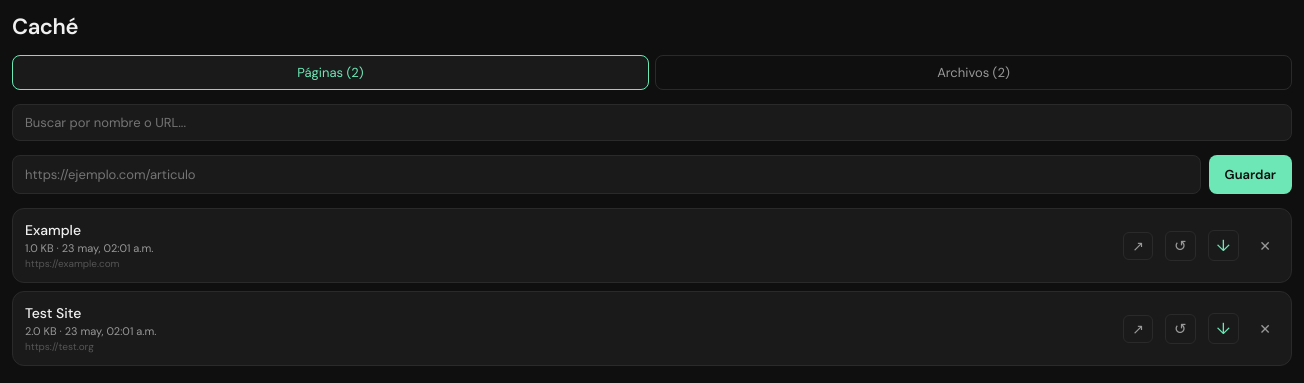
Scenario: CachePage › el buscador filtra páginas por URL
Type "test.org" into the field with placeholder "Buscar por nombre o URL...". click: (652, 122)
box: [12,104,1292,141]
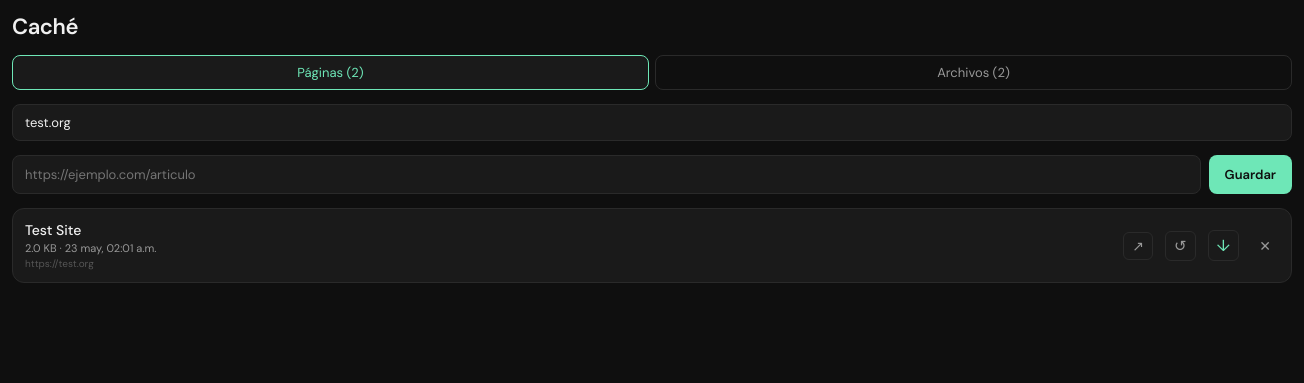
Expected: the text "Test Site" is shown, [25,221,81,239]
Expected: the text "Example" is gone
